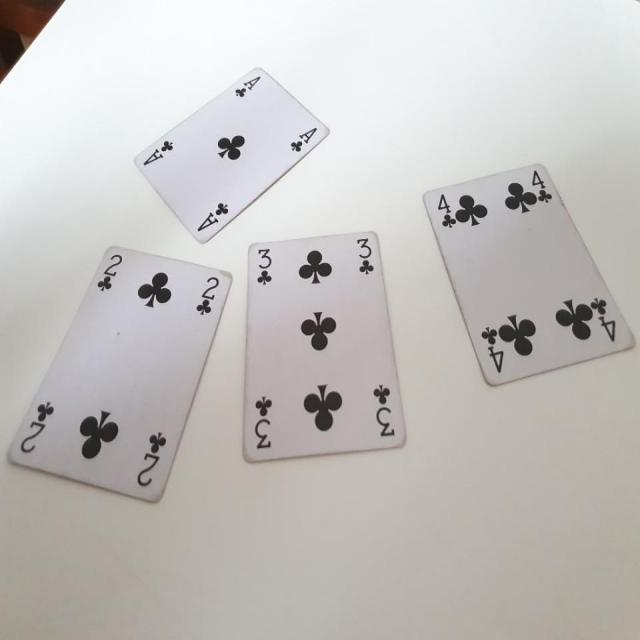2 Trefoils: (2, 242, 234, 505)
3 Trefoils: (242, 229, 407, 462)
4 Trefoils: (422, 160, 636, 388)
A Trefoils: (131, 66, 330, 245)
